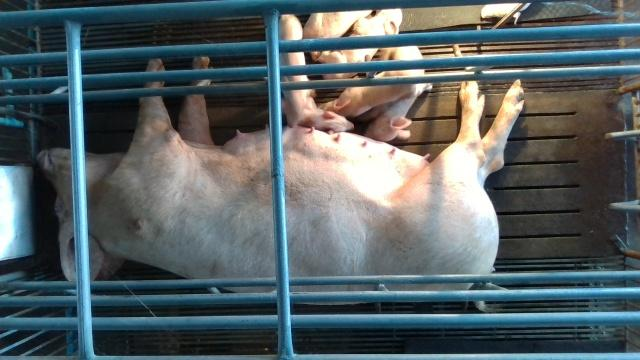piglet: (322, 45, 425, 118), (318, 9, 403, 80), (277, 14, 316, 128), (364, 83, 433, 142), (298, 108, 354, 134)
sow-sleep-lactate: (35, 56, 523, 311)
